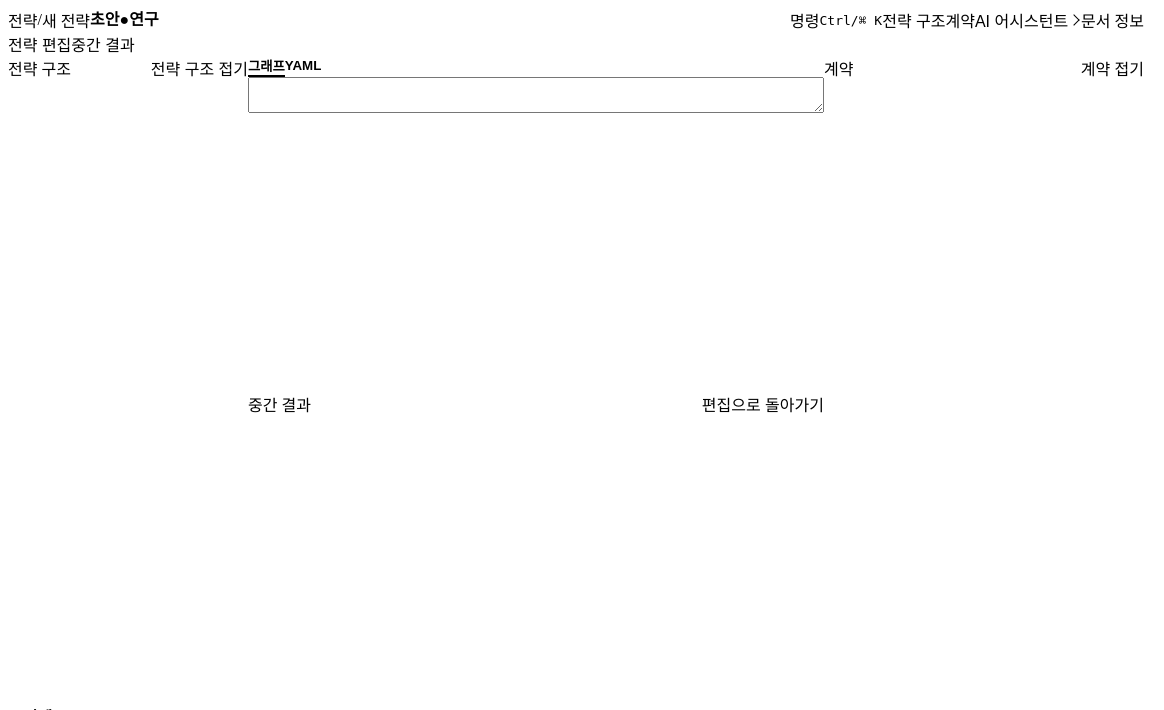
Test: StrategyIde assistant 슬롯 › 상단 바 AI 토글은 창이 떠 있어도 남아 열림 상태를 보이고 여닫는다(한정 리뷰 10)
Click the button "AI 어시스턴트" at [1022, 20], box [975,8,1068,32]
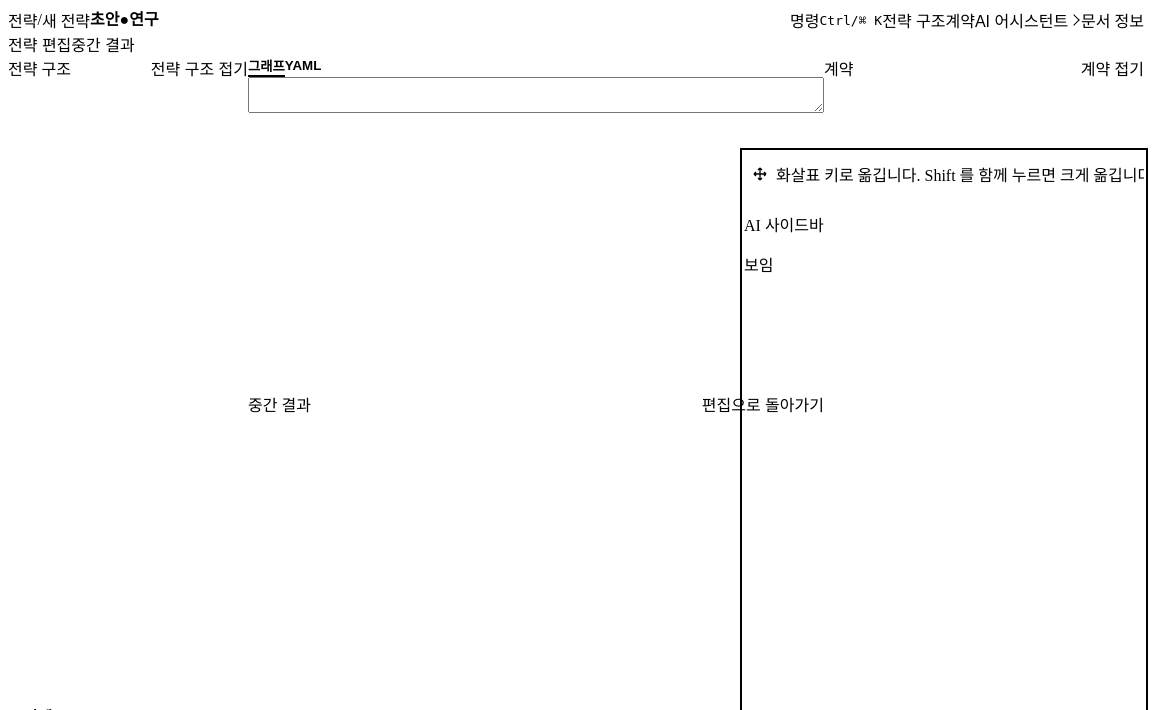
Click the button "AI 어시스턴트" at [1022, 20], box [975,8,1068,32]
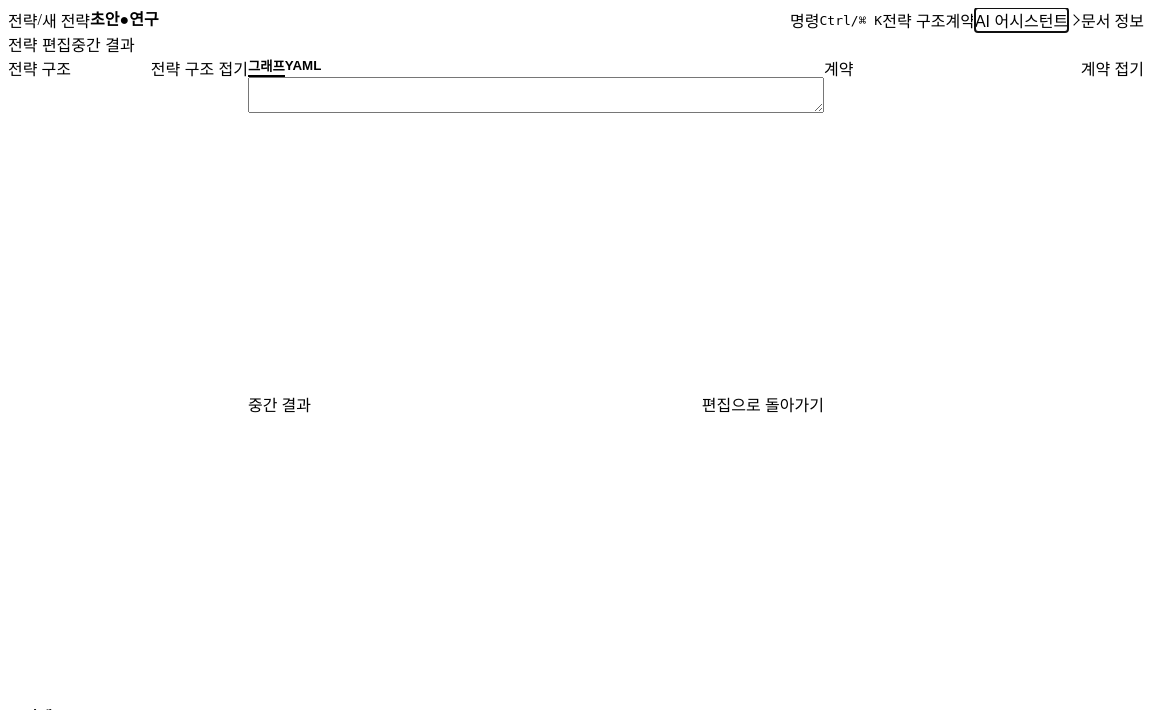
Check: the button "AI 어시스턴트" is collapsed, box [975,8,1068,32]
